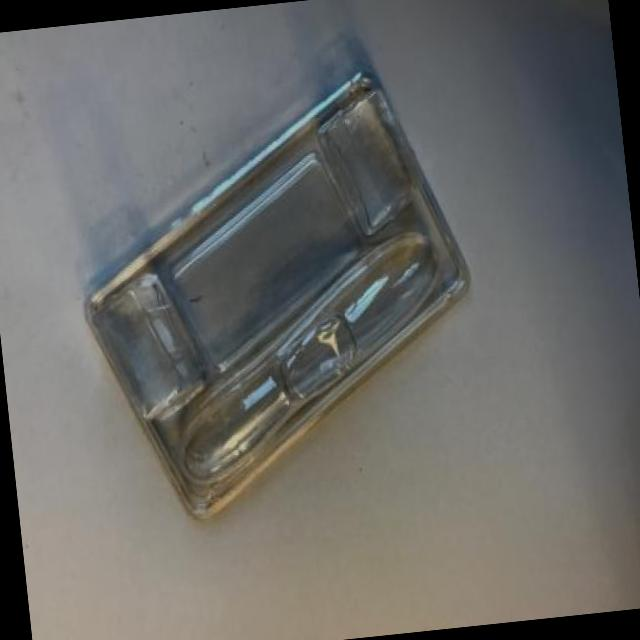Recycle: (59, 60, 492, 529)
